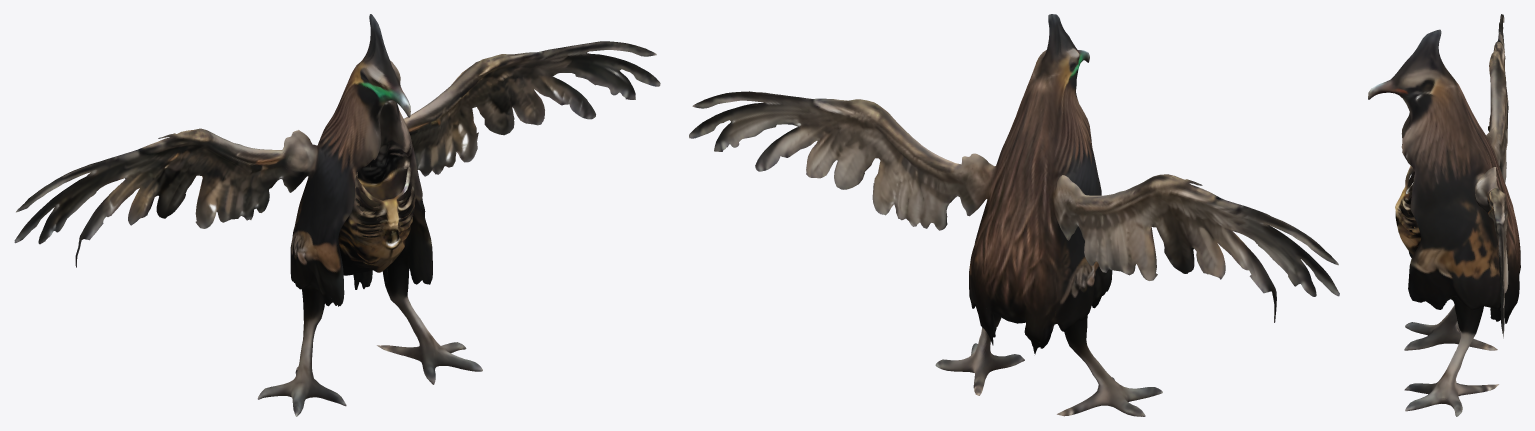
File: base_basic_shaded.fbx
3 renders of one model, left to right at view 1: azimuth 30°, elevation 25°; view 2: azimuth 150°, elevation 25°; view 3: azimuth 270°, elevation 25°, orthographic. The views are drawn at different scales.
Visible parts, largest first — view 1: model; view 2: model; view 3: model.
Boxes of the visible parts, x1,y1,x2,y2 form: model: [14, 14, 660, 416]; model: [689, 14, 1339, 416]; model: [1368, 14, 1520, 416].
Bounding box in the file's own units: 175 × 95.14 × 38.61.
